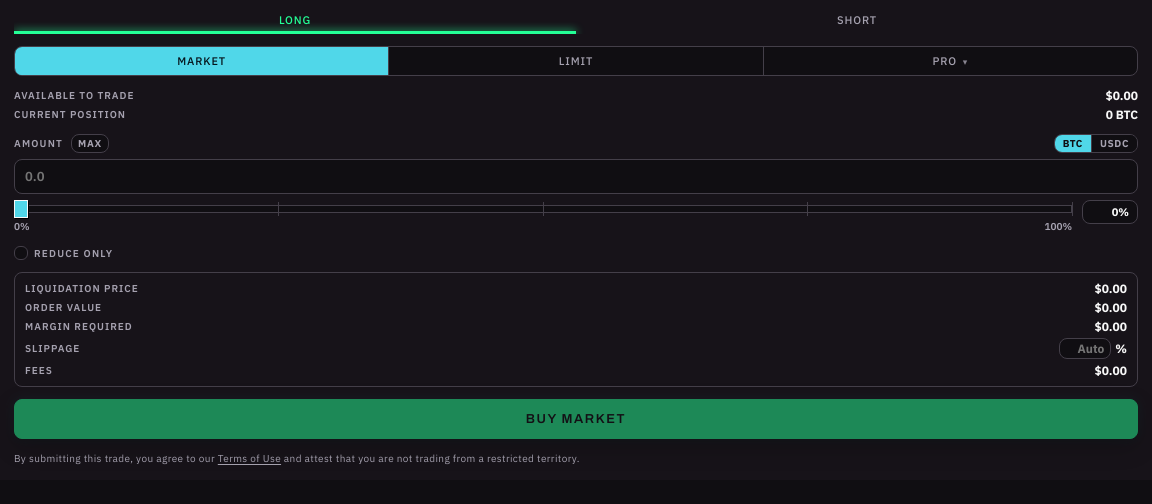
Test: OrderEntry › renders the Stop Market field set (Stop Price, no TP/SL) when Stop Market is selected
The width and height of the screenshot is (1152, 504).
What coordinates should you click on to do the following:
click the button "Pro ▾"
I would click on:
 (950, 61)
Its box is left=764, top=47, right=1137, bottom=75.
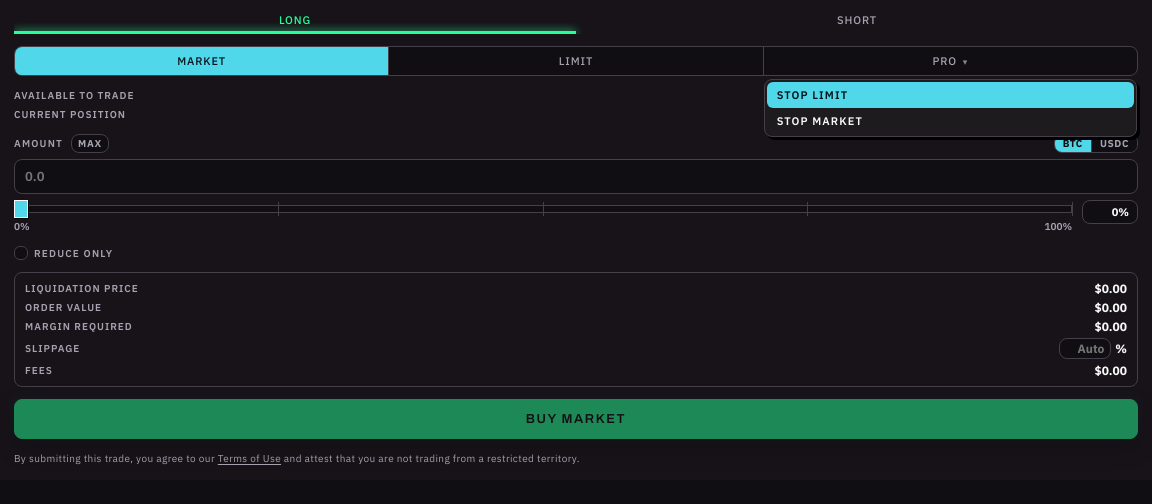
What coordinates should you click on to do the following:
click the option "Stop Market"
I would click on:
 (820, 121)
Its box is left=777, top=114, right=863, bottom=128.
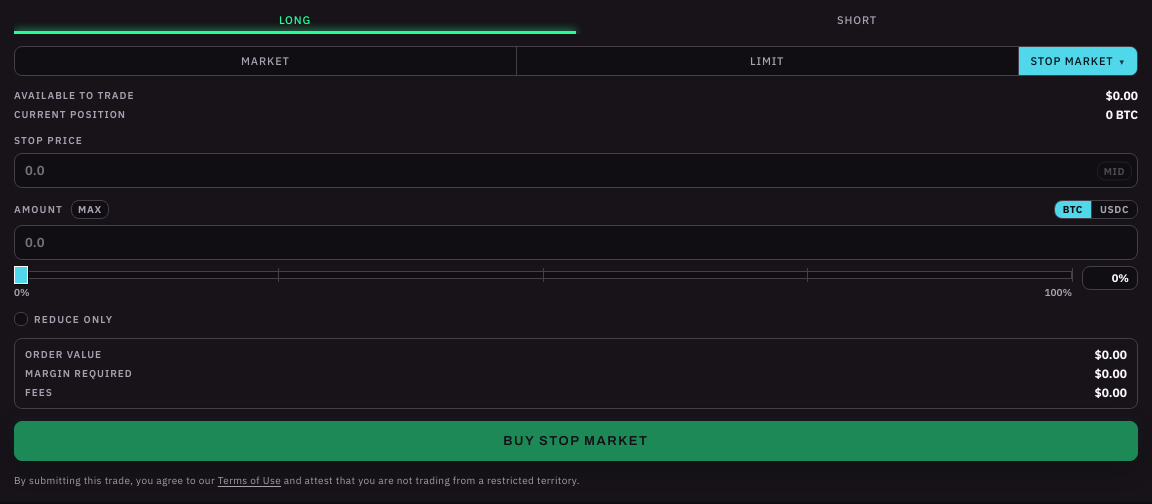
expect the field labelled "Stop Price" is shown: met, box left=14, top=153, right=1138, bottom=188
expect the text "Liquidation Price" is gone: met
expect the text "Slippage" is gone: met
